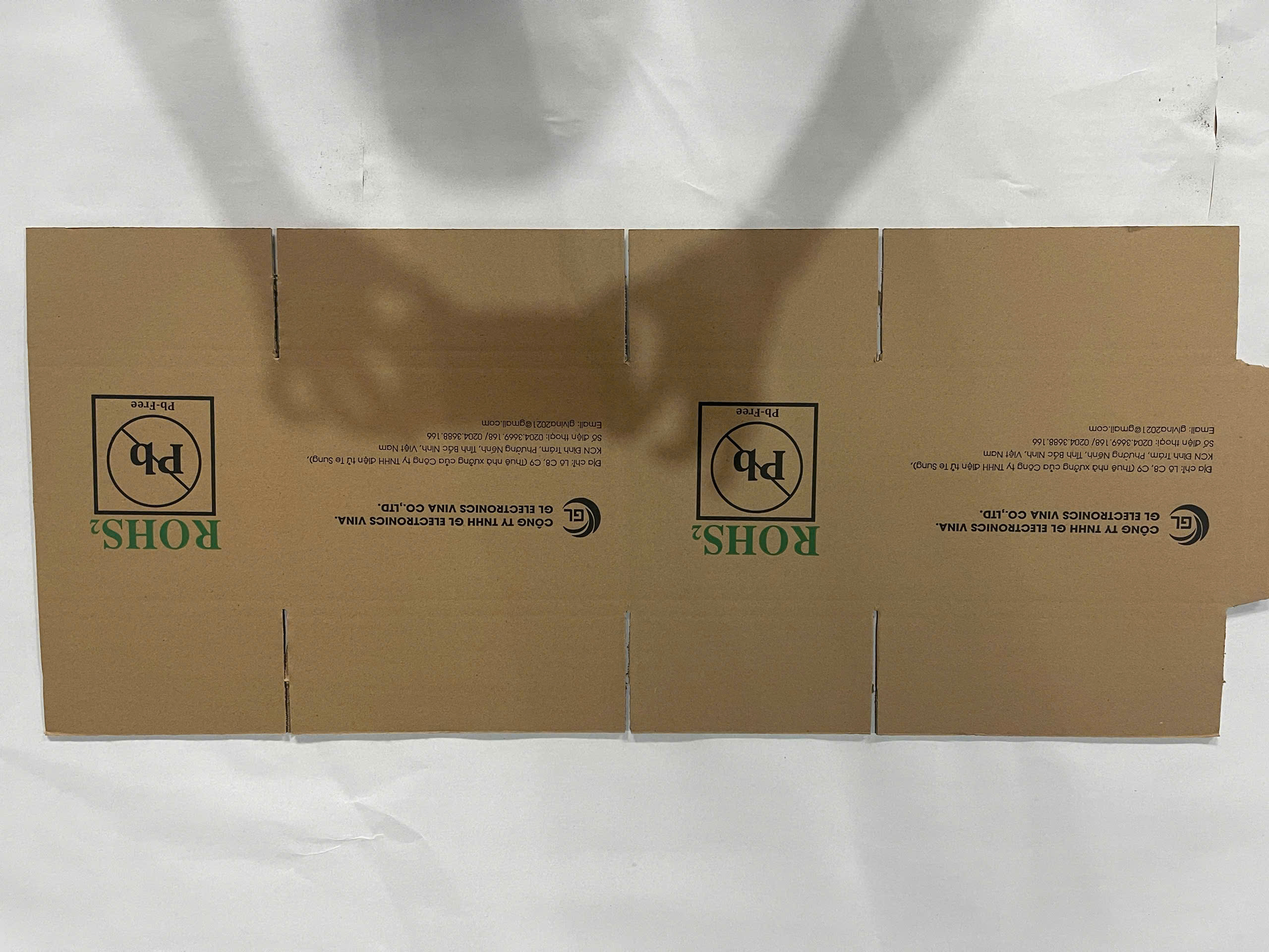box: (27, 226, 1269, 736)
